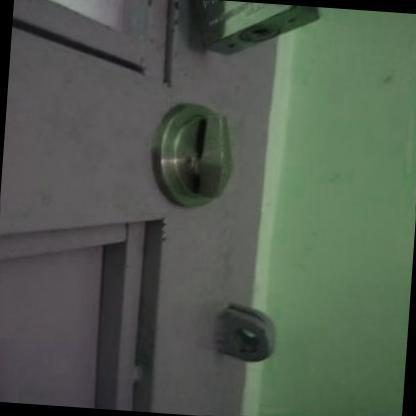unlock: (131, 86, 290, 239)
